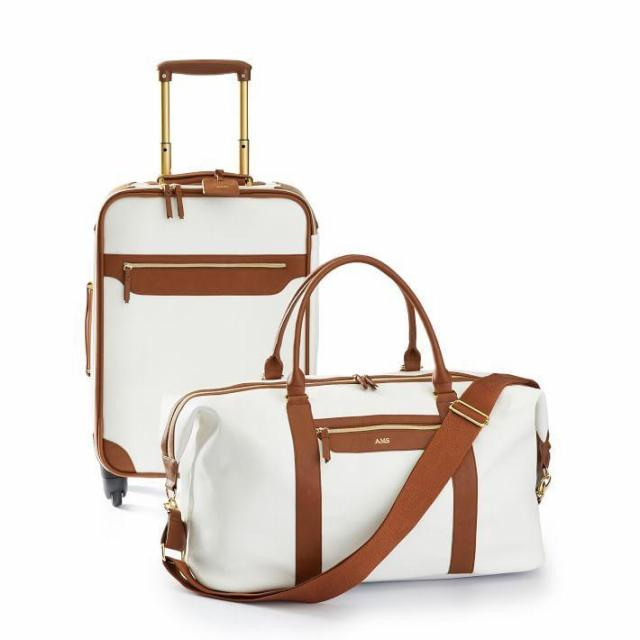luggage: (156, 357, 559, 610), (75, 164, 325, 512)
